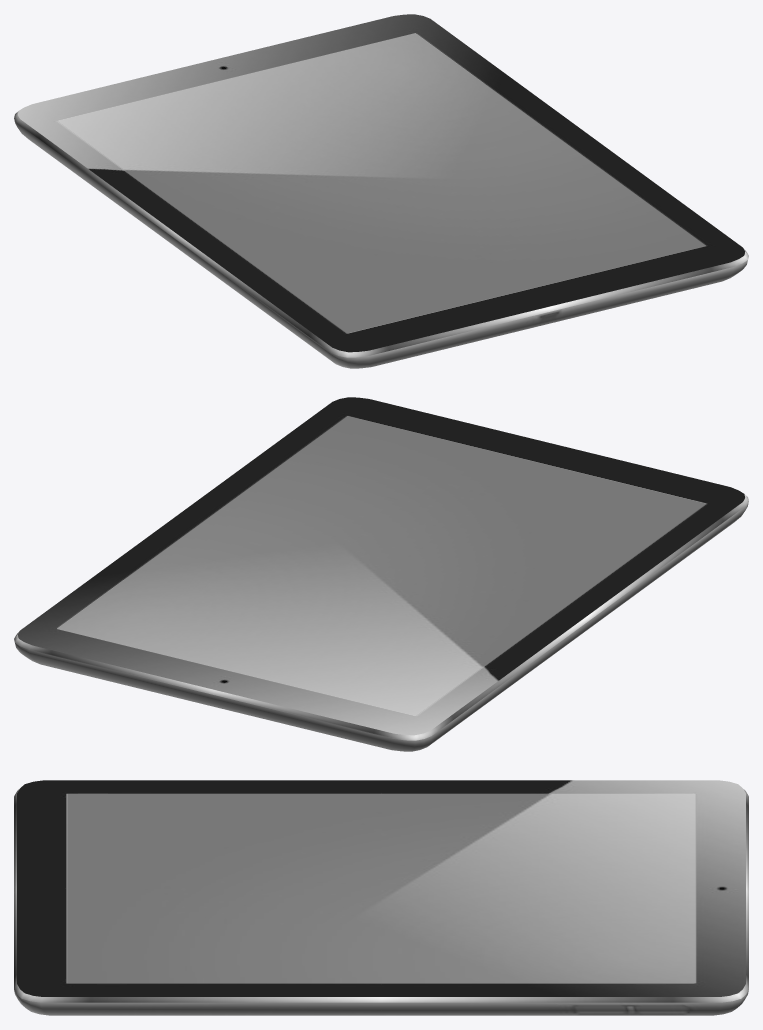
Rendered from sweethome3d-scopia-tablet.glb.
3 renders of one model, top to bottom at view 1: azimuth 30°, elevation 25°; view 2: azimuth 150°, elevation 25°; view 3: azimuth 270°, elevation 25°, orthographic. The views are drawn at different scales.
Visible parts, largest first — view 1: screen_Cube.001, tablet_Cube; view 2: screen_Cube.001, tablet_Cube; view 3: screen_Cube.001, tablet_Cube.
Part boxes in pixels (x1,y1,x2,y2): screen_Cube.001: (57,33,705,333); tablet_Cube: (14,14,748,368); screen_Cube.001: (57,416,705,716); tablet_Cube: (14,397,748,751); screen_Cube.001: (66,794,696,983); tablet_Cube: (14,780,748,1015).
Size of the model in its own units: 16.96 by 0.8396 by 24.03.
Materials: 2 (2 with a texture image).
